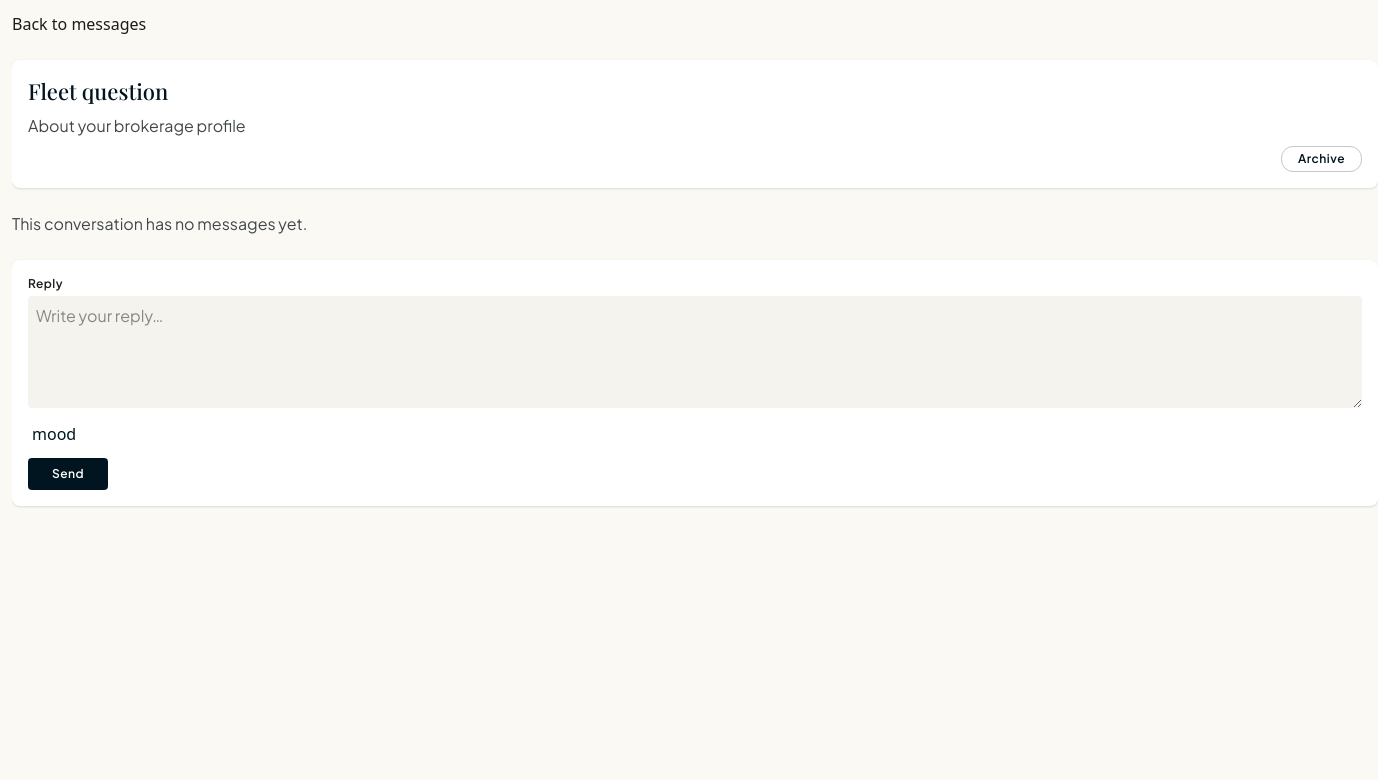
Test case: ThreadScreen › posts a reply and appends it without a full reload
Type "Thank you, next Tuesday morning works well." into the text box labelled "Reply". click: {"x": 695, "y": 352}
box: [28, 296, 1362, 408]
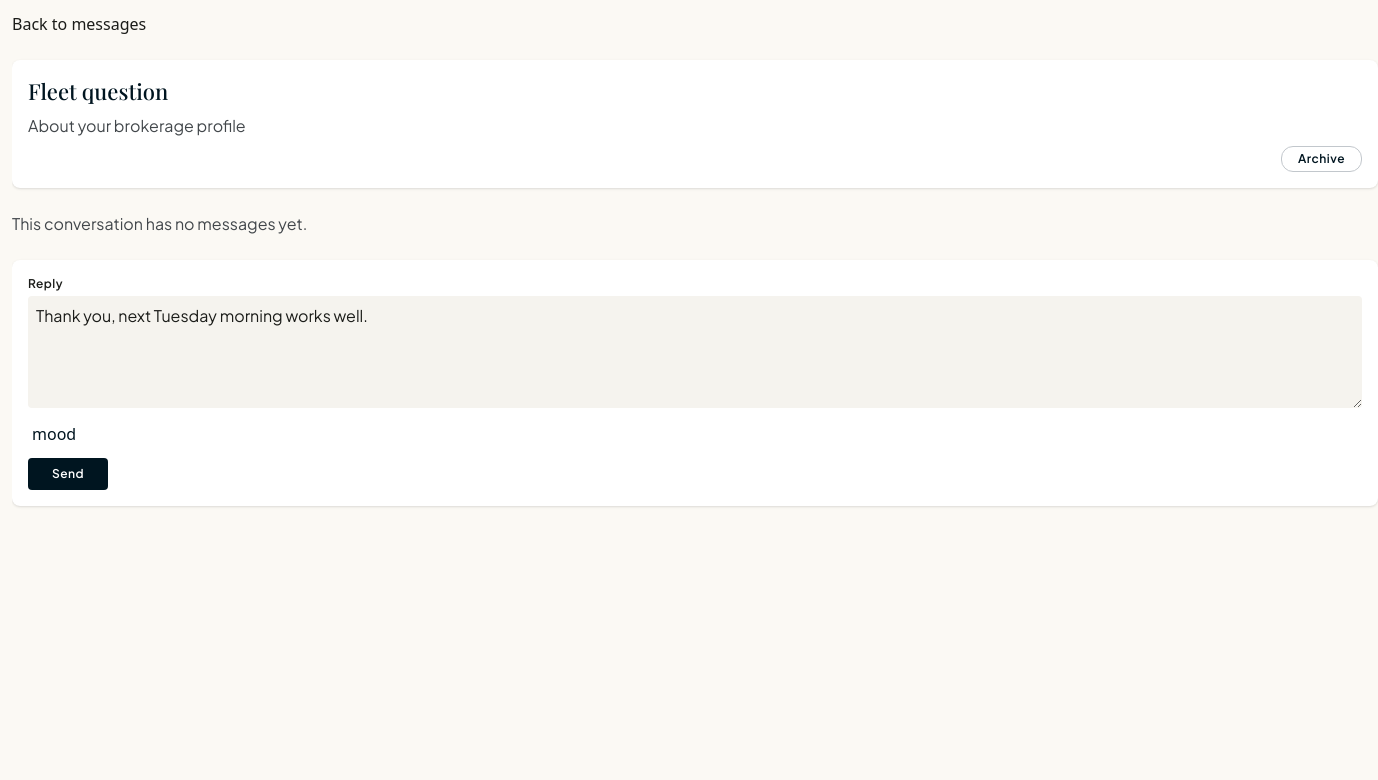
Click the button "Send". click: {"x": 68, "y": 474}
box: [28, 458, 108, 490]
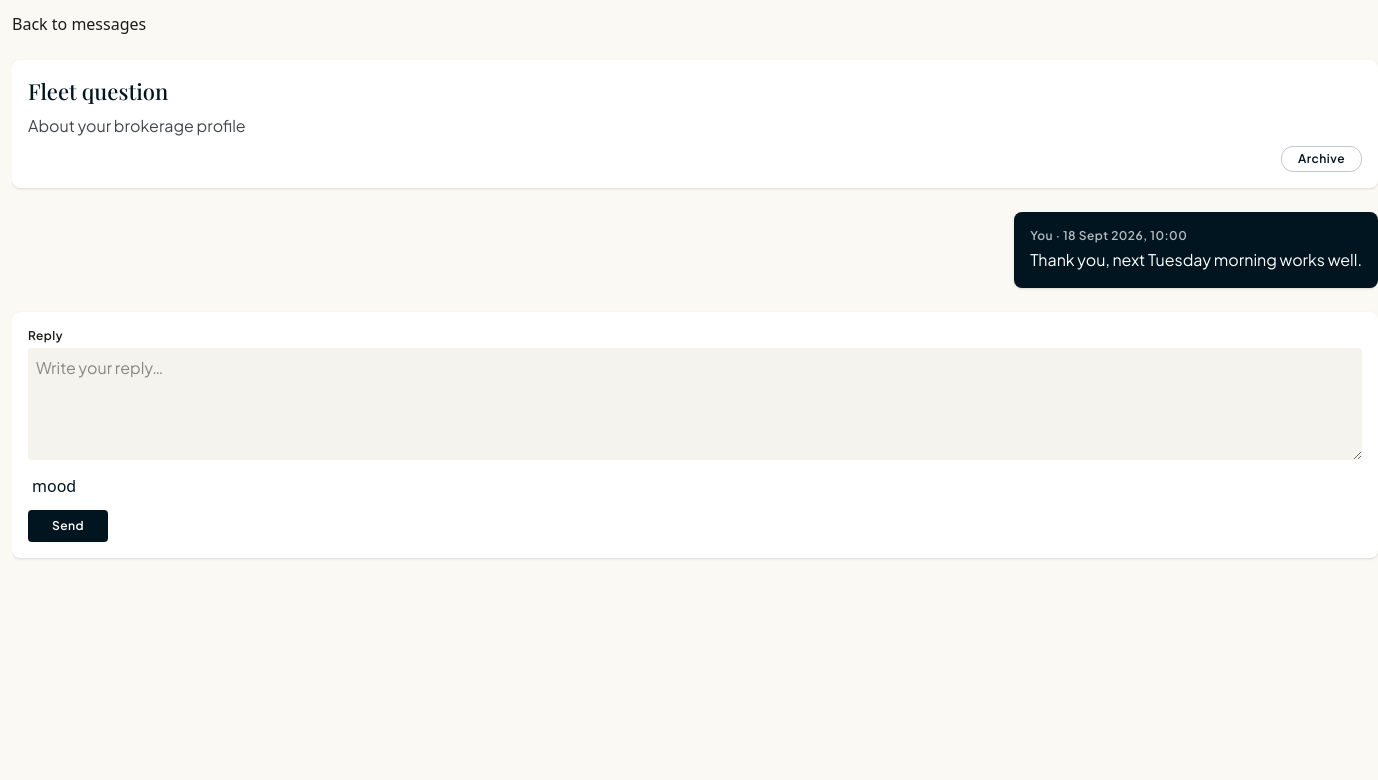
Expected: the text "Thank you, next Tuesday morning works well." is shown, [1030, 248, 1362, 272]
